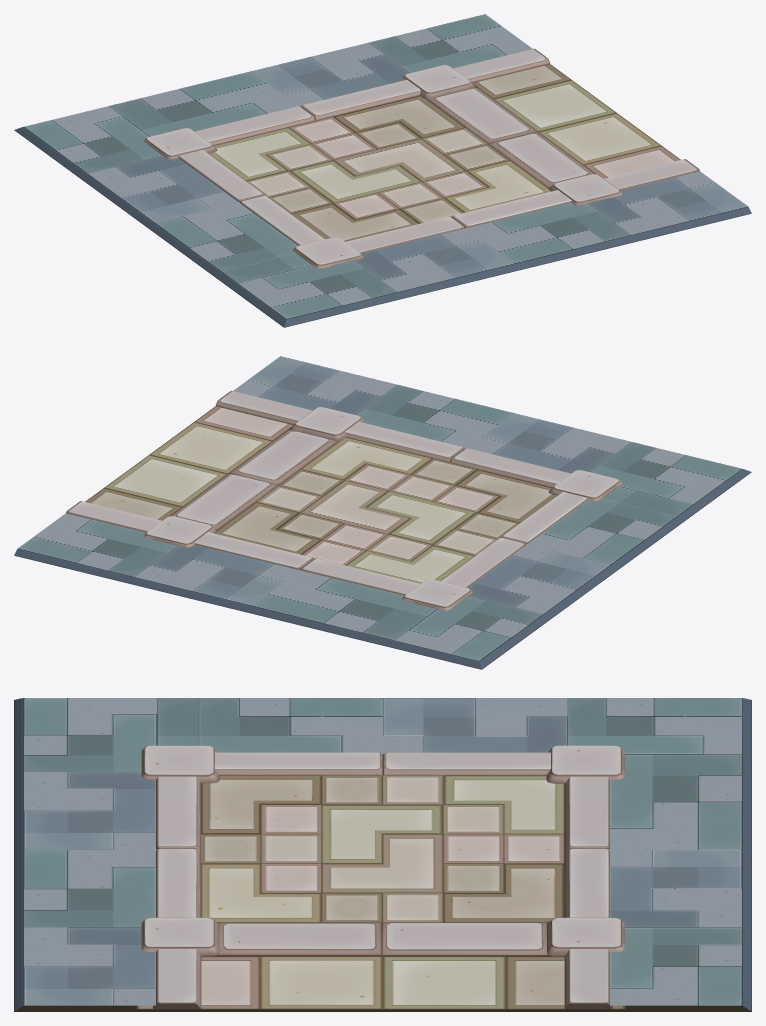
File: road_deadEnd.glb
3 renders of one model, top to bottom at view 1: azimuth 30°, elevation 25°; view 2: azimuth 150°, elevation 25°; view 3: azimuth 270°, elevation 25°, orthographic. The views are drawn at different scales.
Parts seen in each view (by area): view 1: road_04; view 2: road_04; view 3: road_04.
Part boxes in pixels (x1=…): road_04: x1=14, y1=14, x2=751, y2=327; road_04: x1=14, y1=356, x2=751, y2=669; road_04: x1=14, y1=698, x2=751, y2=1011.
Size of what is drawn, in the model's own units: 16 by 0.2304 by 16.
1 material, 1 textured.
